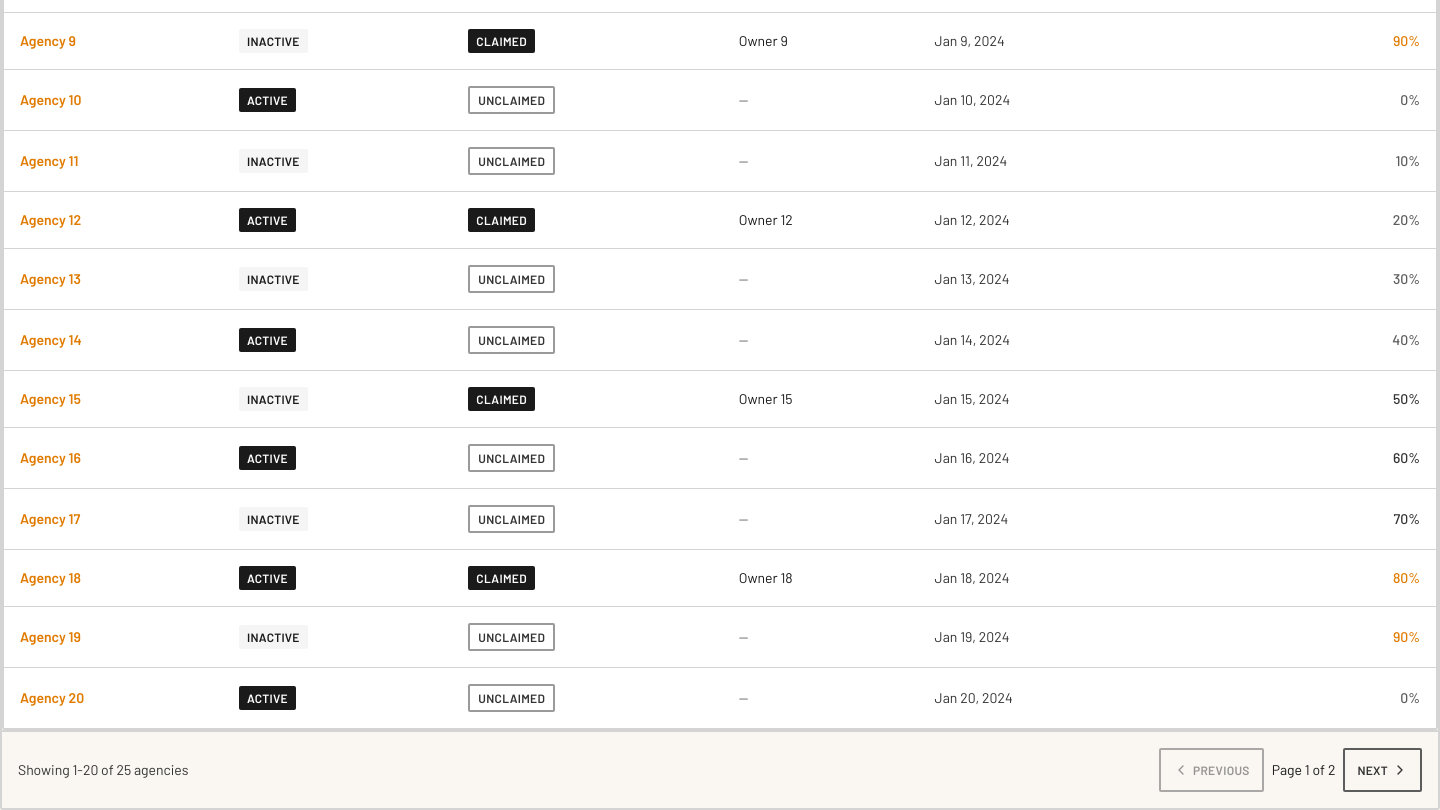
AdminAgenciesTable › Pagination › resets to page 1 when search filter changes
(page scrolled)
// Go to page 2
Click the button with test id "pagination-next".
click(1383, 770)  # box [1343, 748, 1422, 792]
(page scrolled)
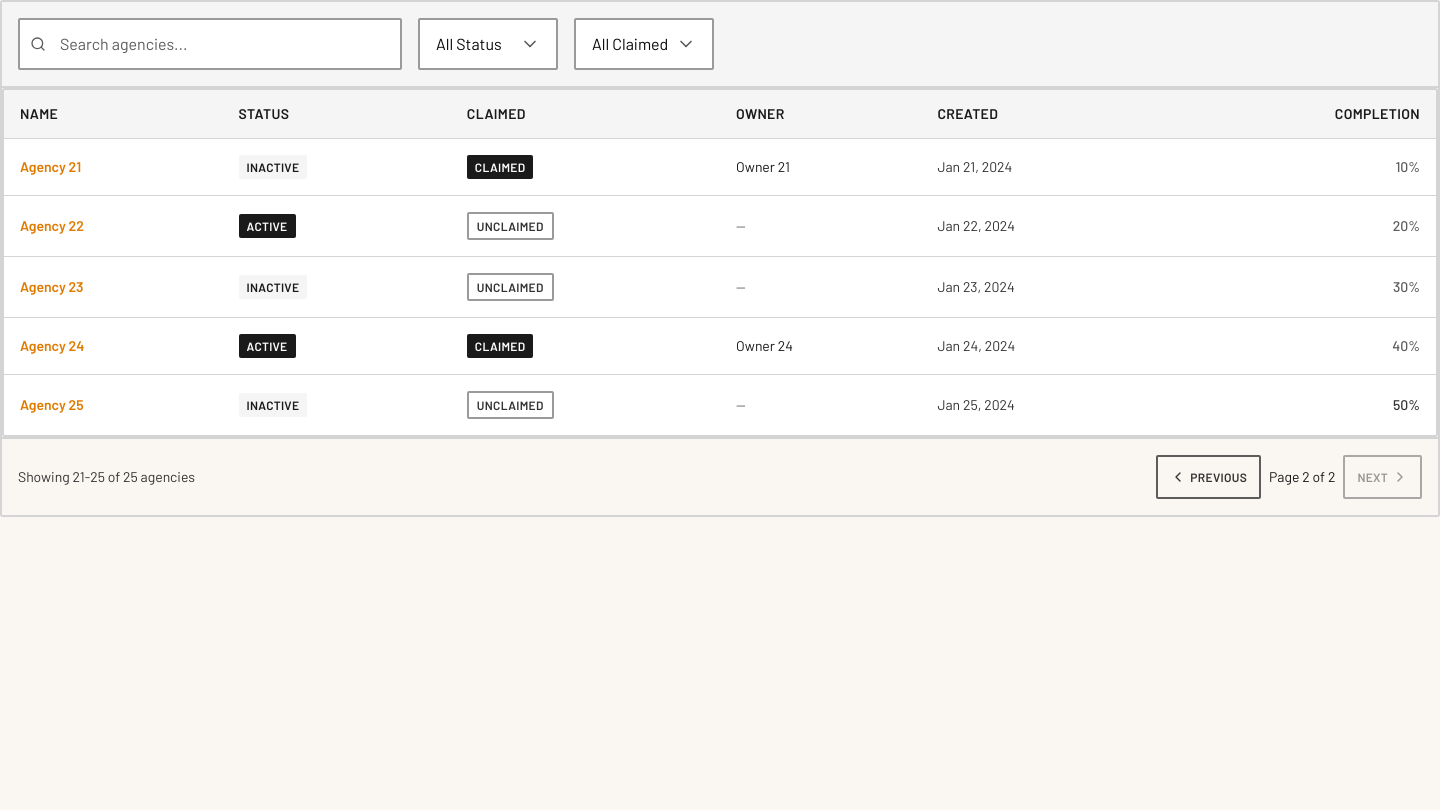
Now the text with test id "pagination-info" reads "Page 2 of 2", box [1269, 466, 1335, 486]
// Apply a search filter
Type "Agency 1" into the field with test id "agency-search-input".
click(210, 44); type("Agency 1")  # box [18, 18, 402, 70]
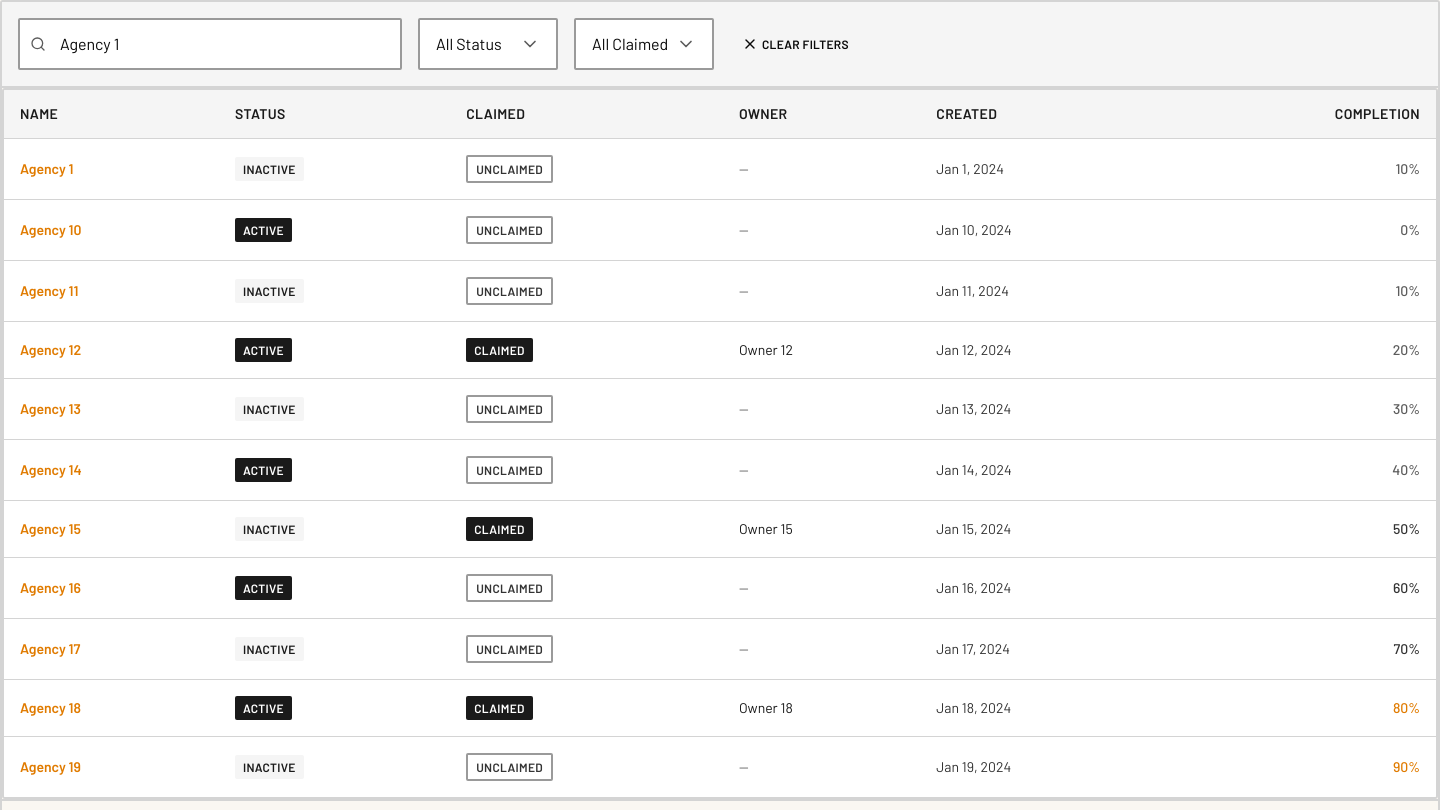
Now the element with test id "pagination-controls" is gone
